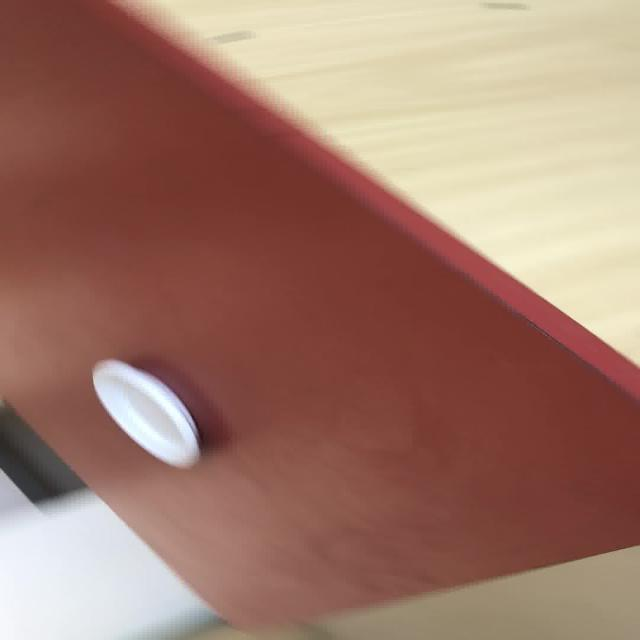plate: (1, 0, 638, 639), (90, 358, 202, 469)
